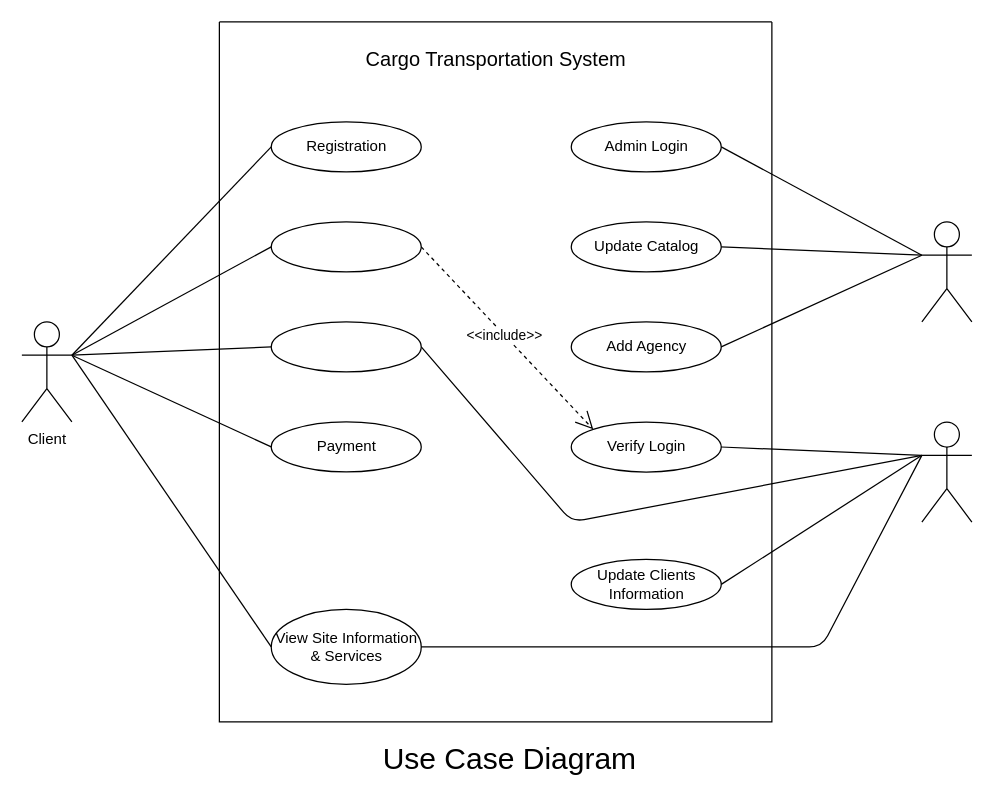
This 994x799 diagram has some shape labels left out. Each missing label, with the box of its shape:
Add New Job: (270, 321, 421, 372)
Admin: (921, 221, 972, 322)
Agency: (921, 421, 972, 522)
Login: (270, 221, 421, 272)
